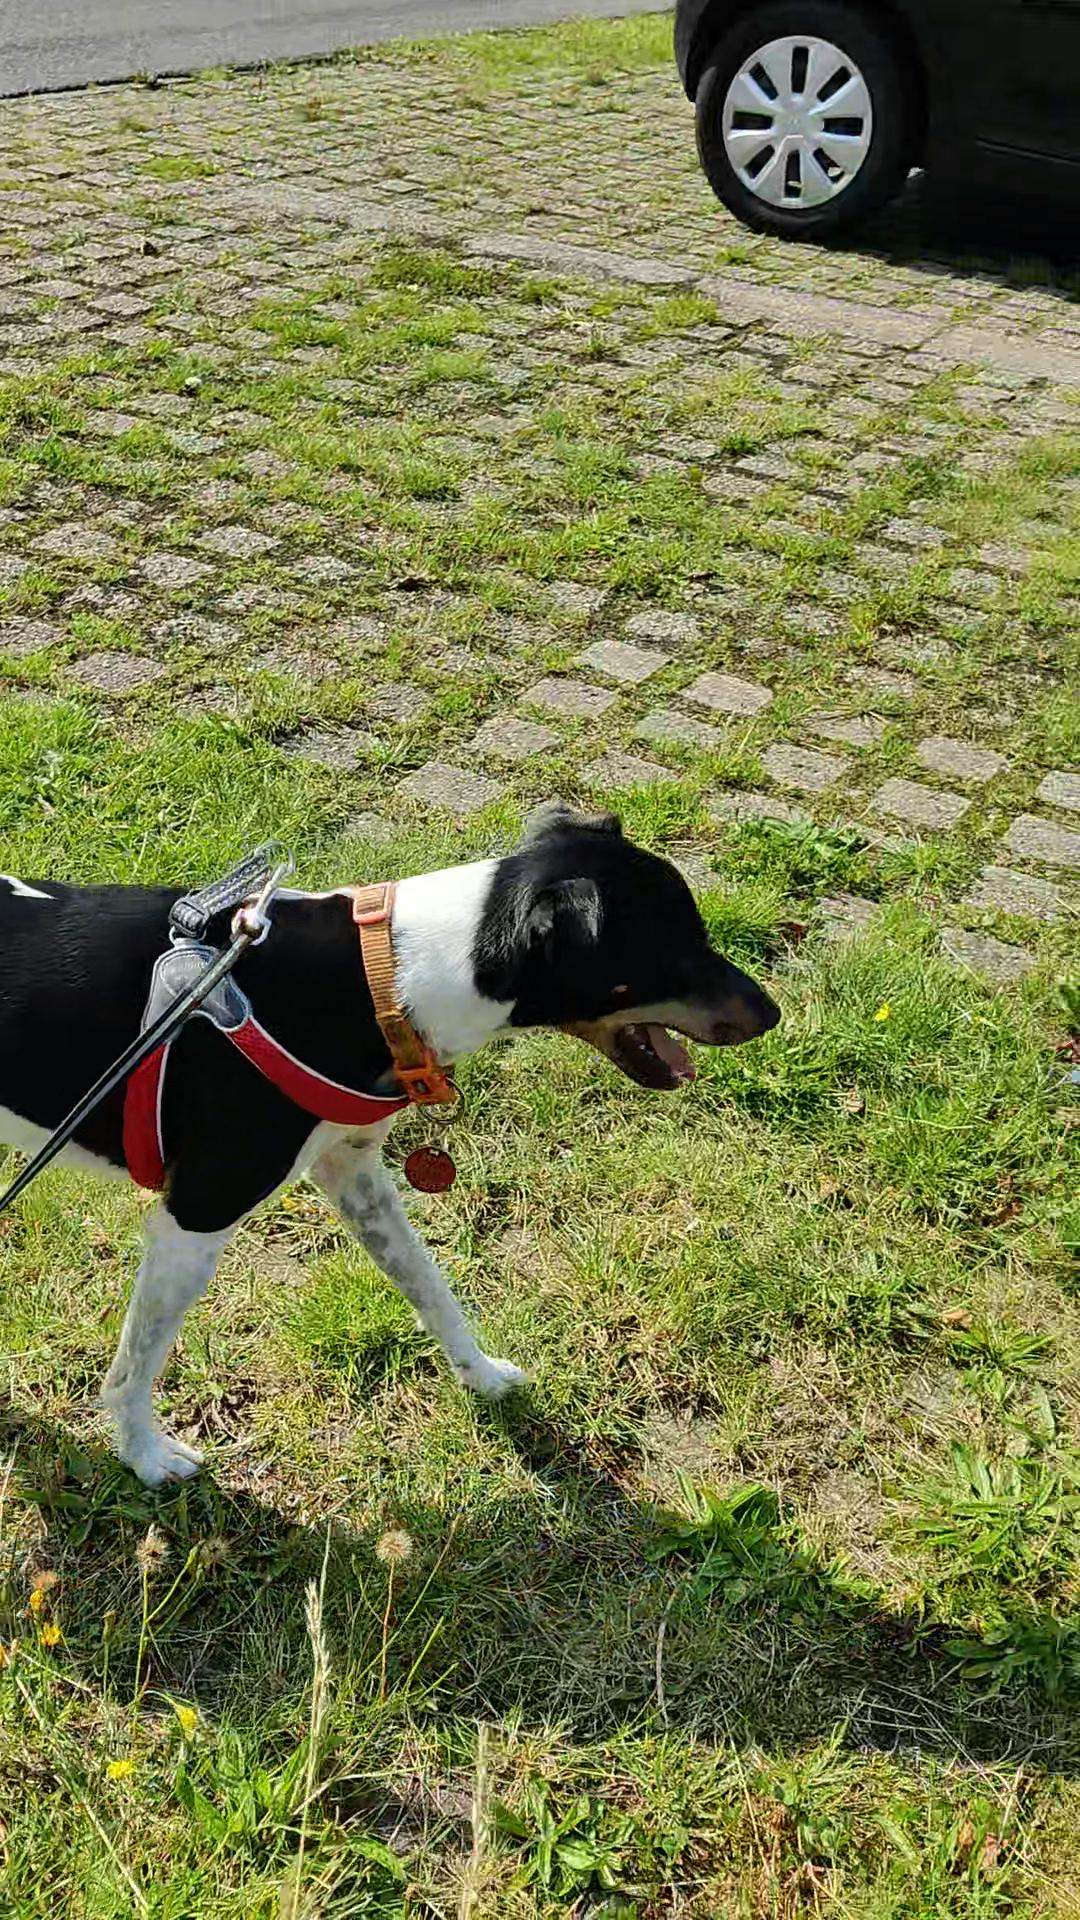Dog: (0, 767, 796, 1511)
